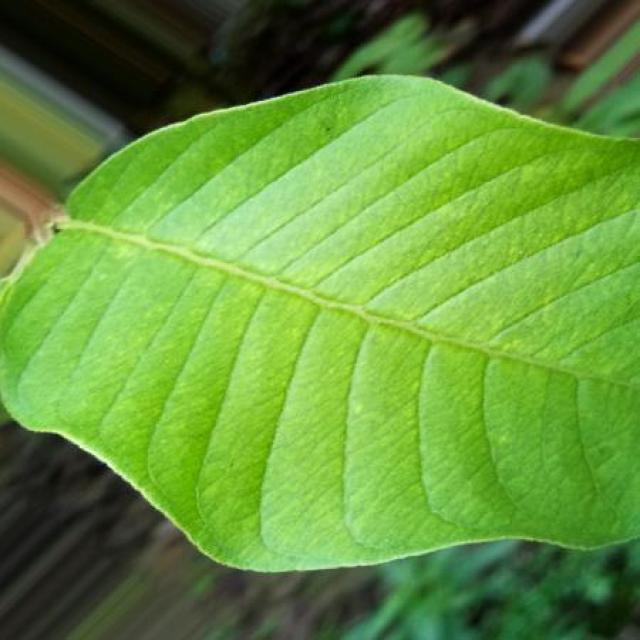Disease Free: (0, 76, 640, 570)
